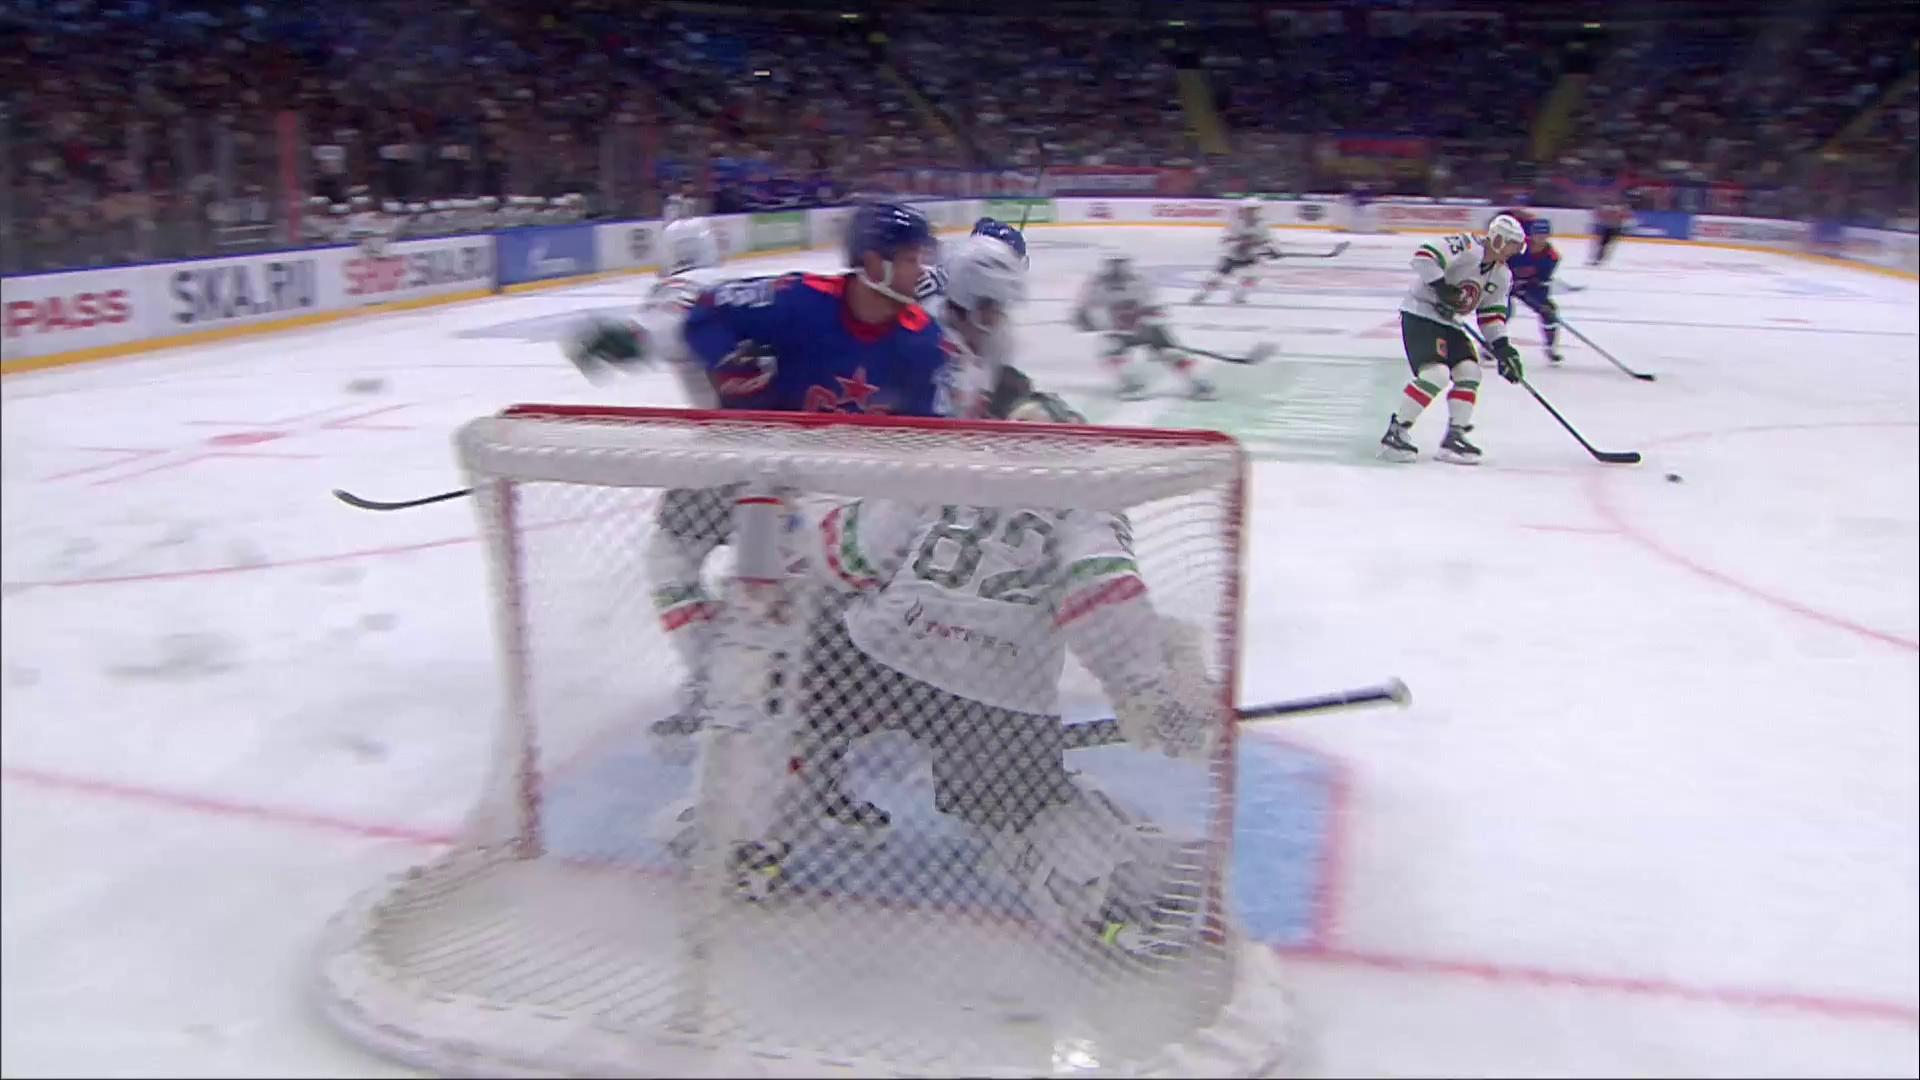ball: (1665, 473, 1683, 484)
